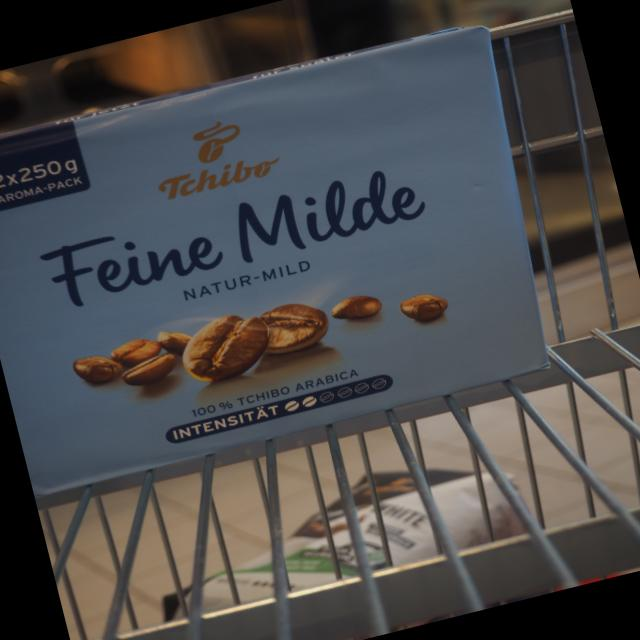FM Gemahlen: (0, 5, 579, 501)
